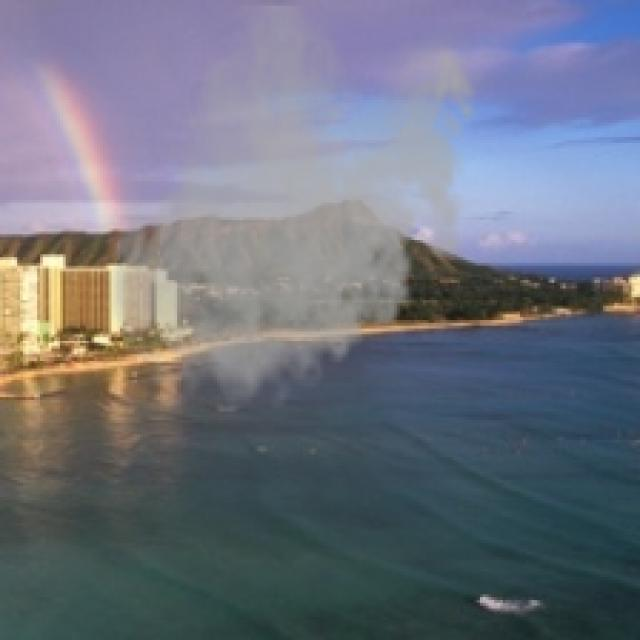Smoke: (100, 0, 489, 417)
